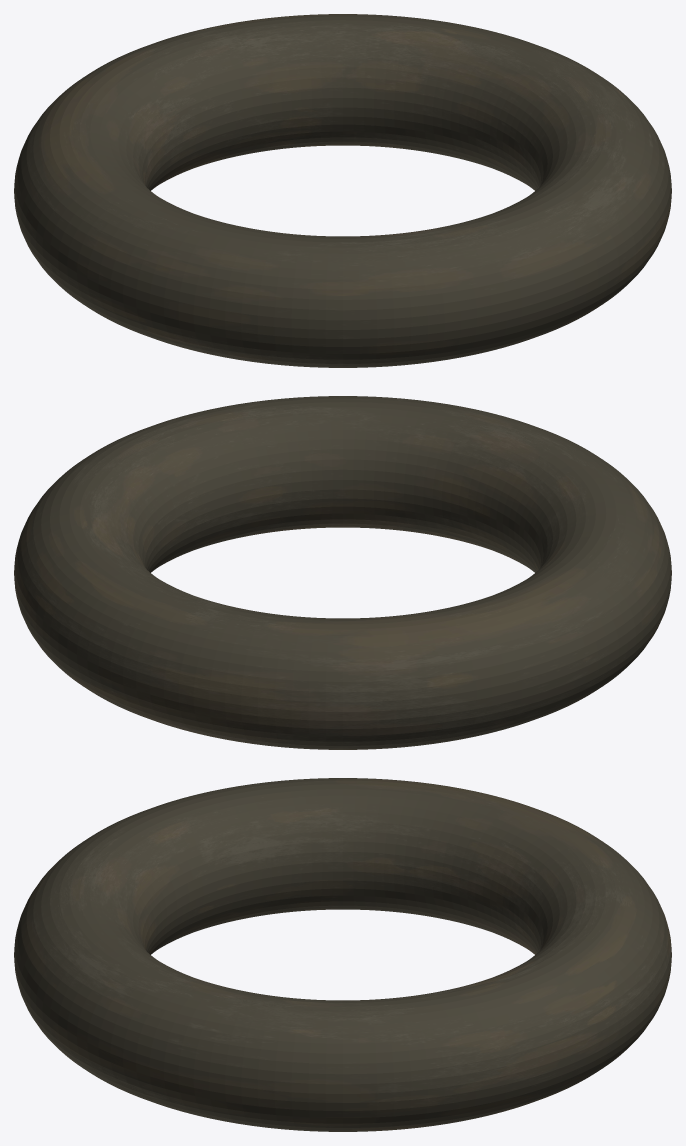
The model's file is statue.fbx.
3 views of the same model, one above another, from view 1: azimuth 30°, elevation 25°; view 2: azimuth 150°, elevation 25°; view 3: azimuth 270°, elevation 25° (orthographic).
Visible parts, largest first — view 1: Torus.001; view 2: Torus.001; view 3: Torus.001.
Part boxes in pixels (box(x1,y1,x2,y2)): Torus.001: box(14, 14, 671, 367); Torus.001: box(14, 396, 671, 749); Torus.001: box(14, 778, 671, 1131).
Bounding box in the file's own units: 250 × 50 × 250.
